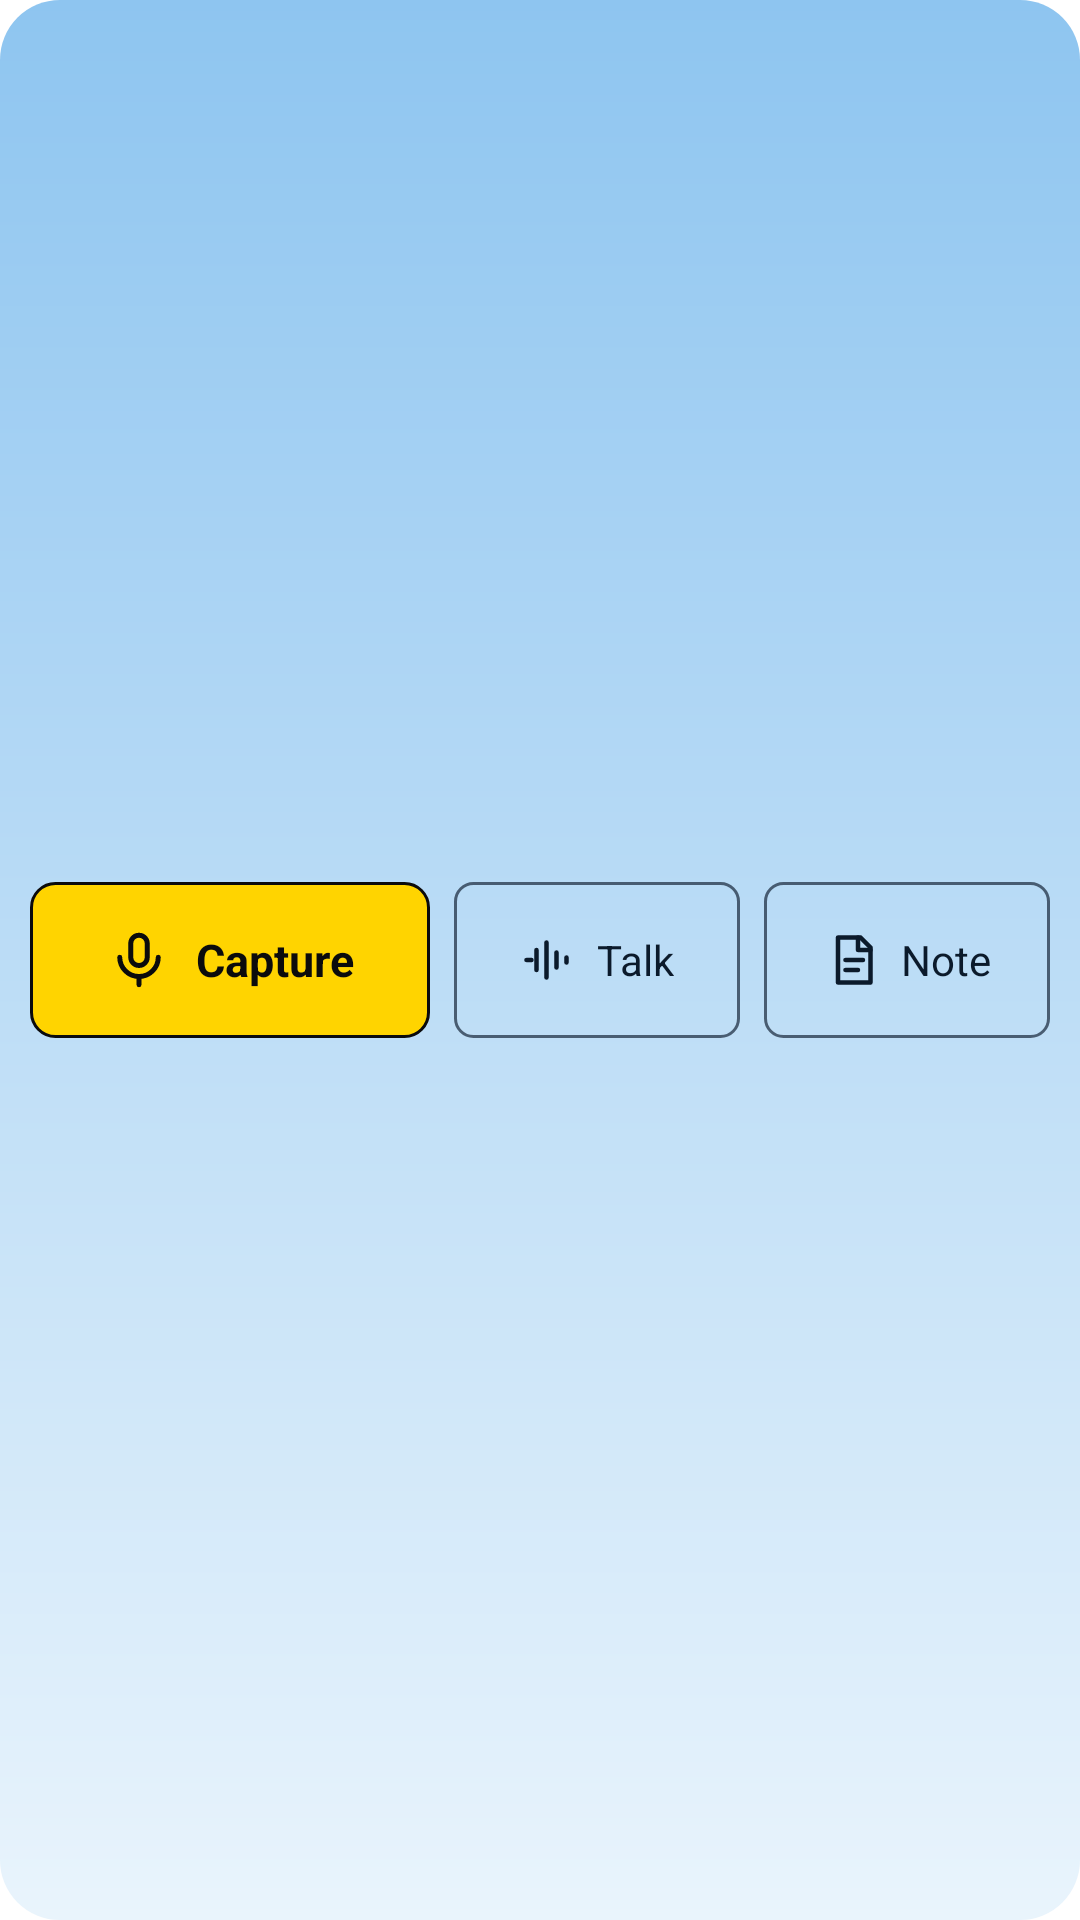

Named icons in this screenshot (1080×1920) and their centers, point (x, y):
mic: point (139, 959)
